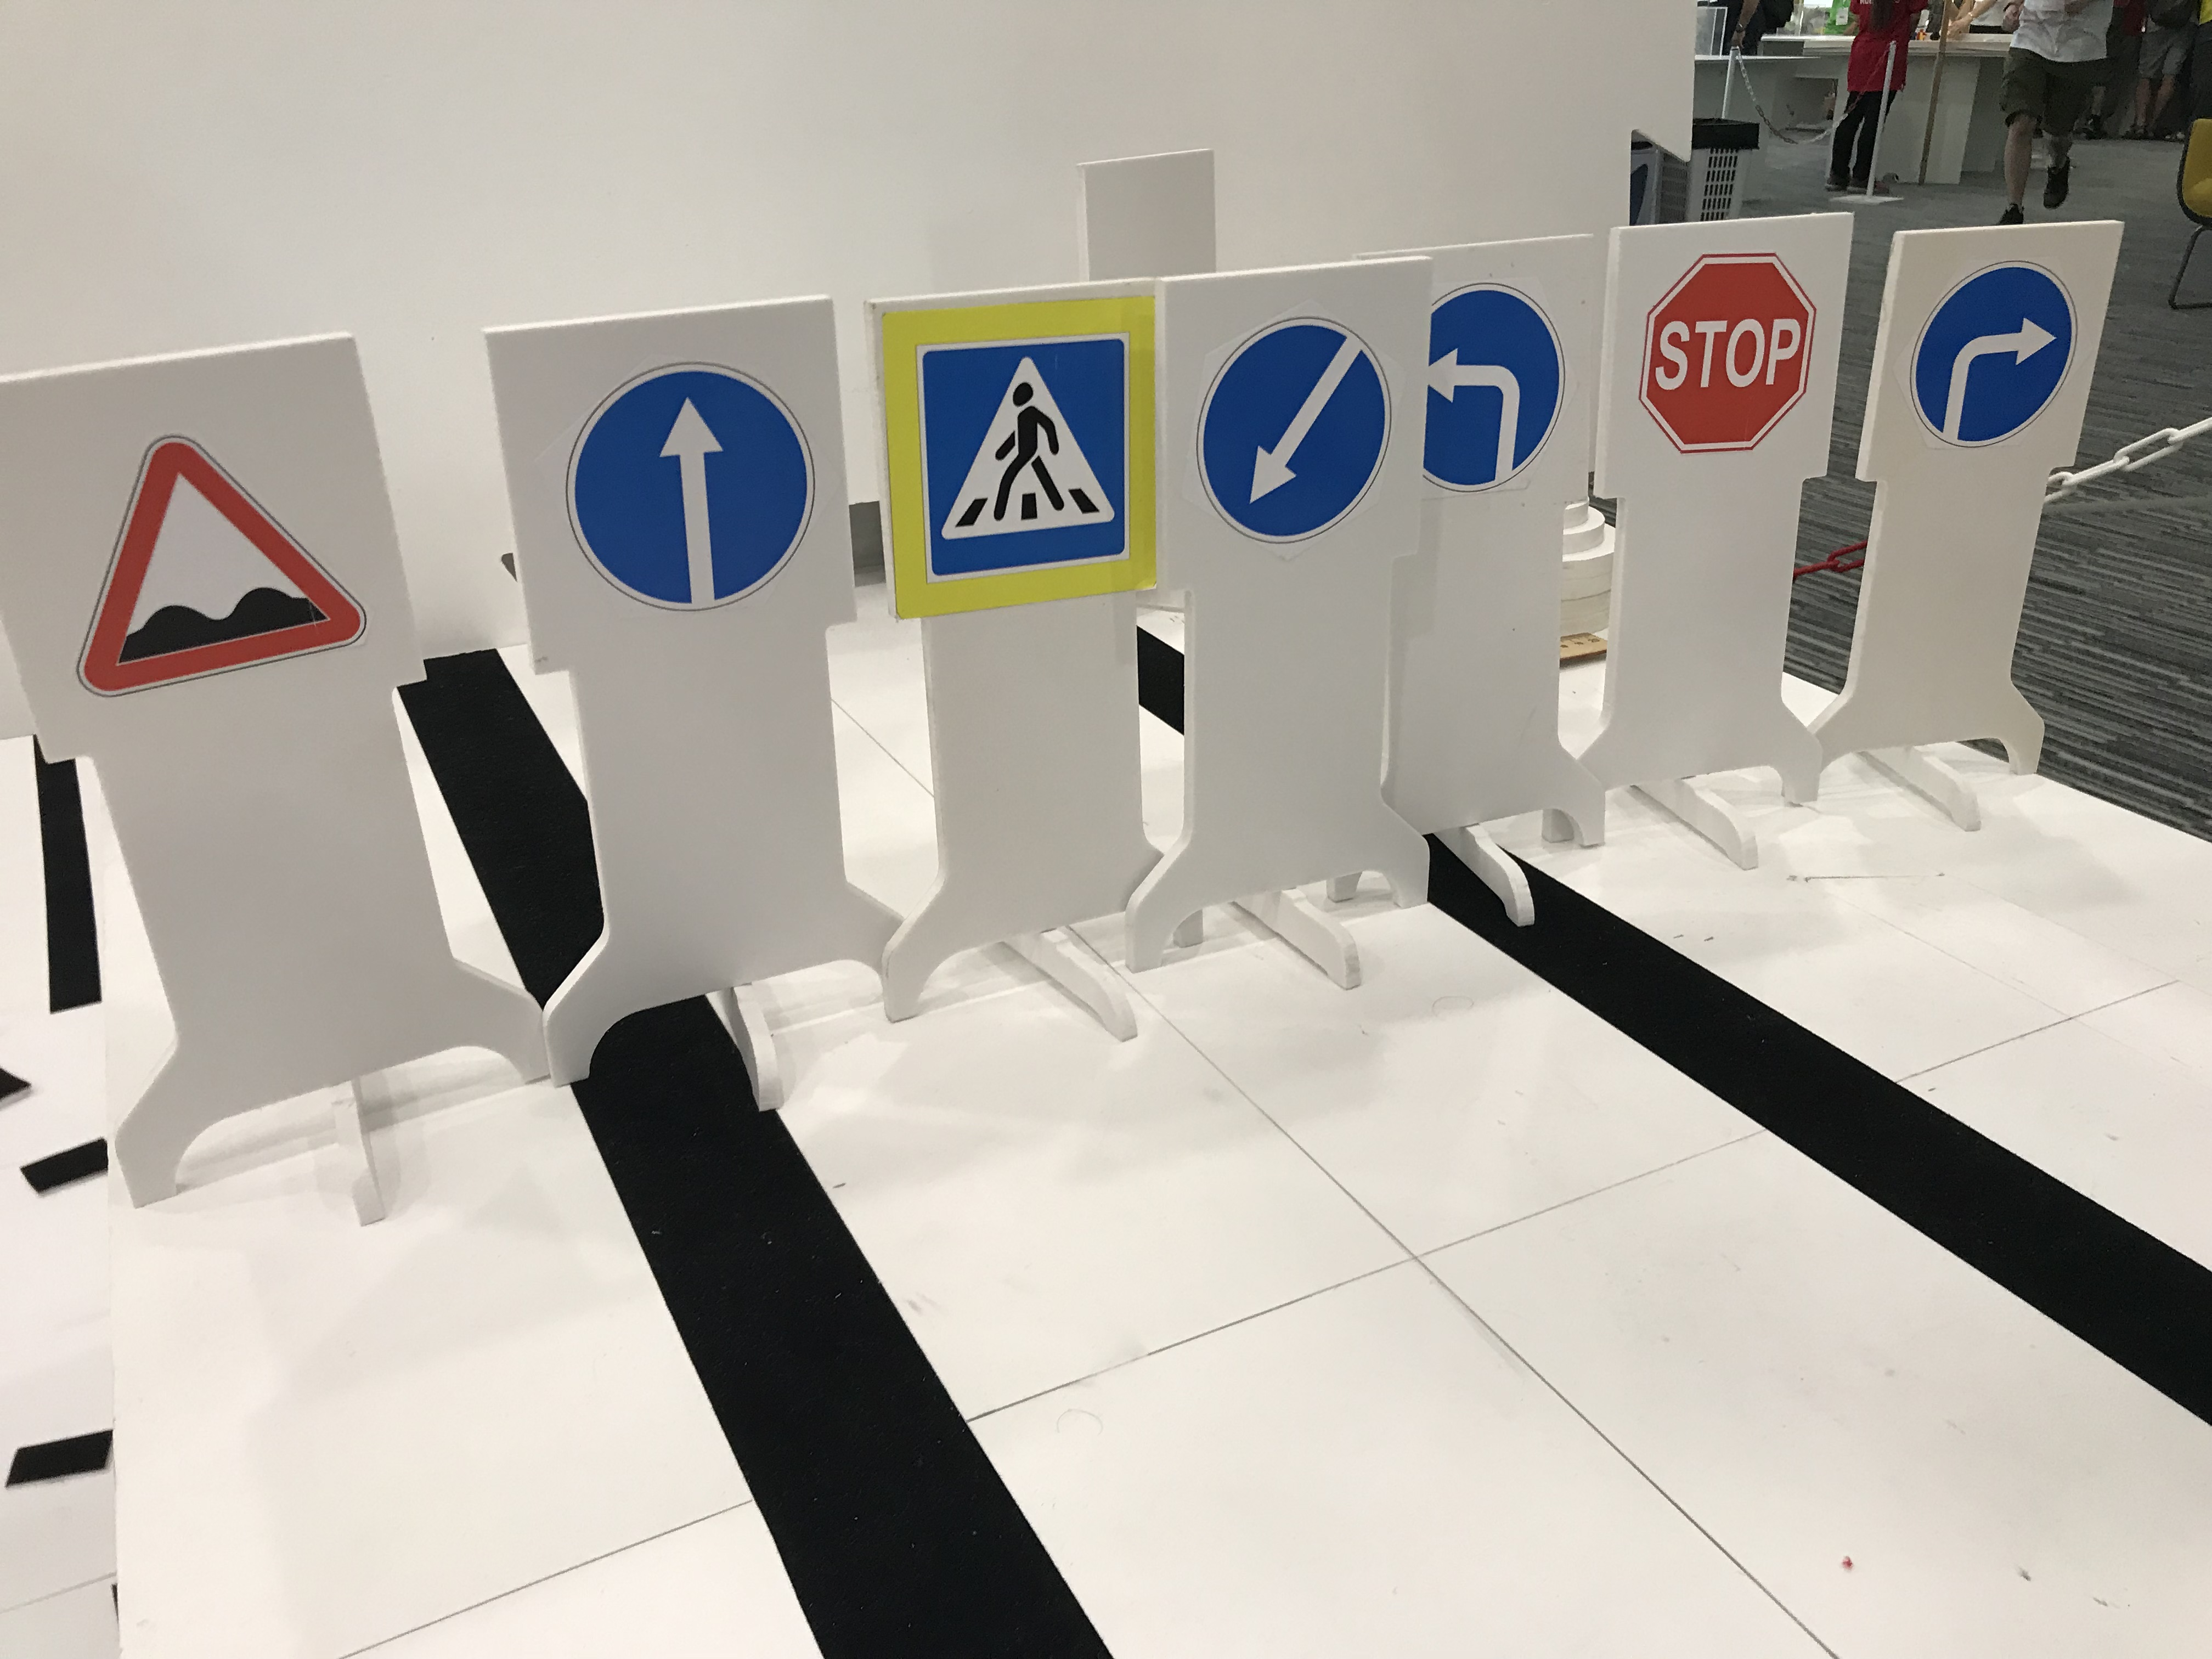Left: (1409, 282, 1569, 498)
Nerov: (73, 429, 373, 694)
Right: (1909, 265, 2069, 443)
Stop: (1635, 246, 1815, 462)
forw: (566, 361, 812, 613)
pesh: (876, 300, 1151, 596)
prep: (1198, 310, 1395, 535)
